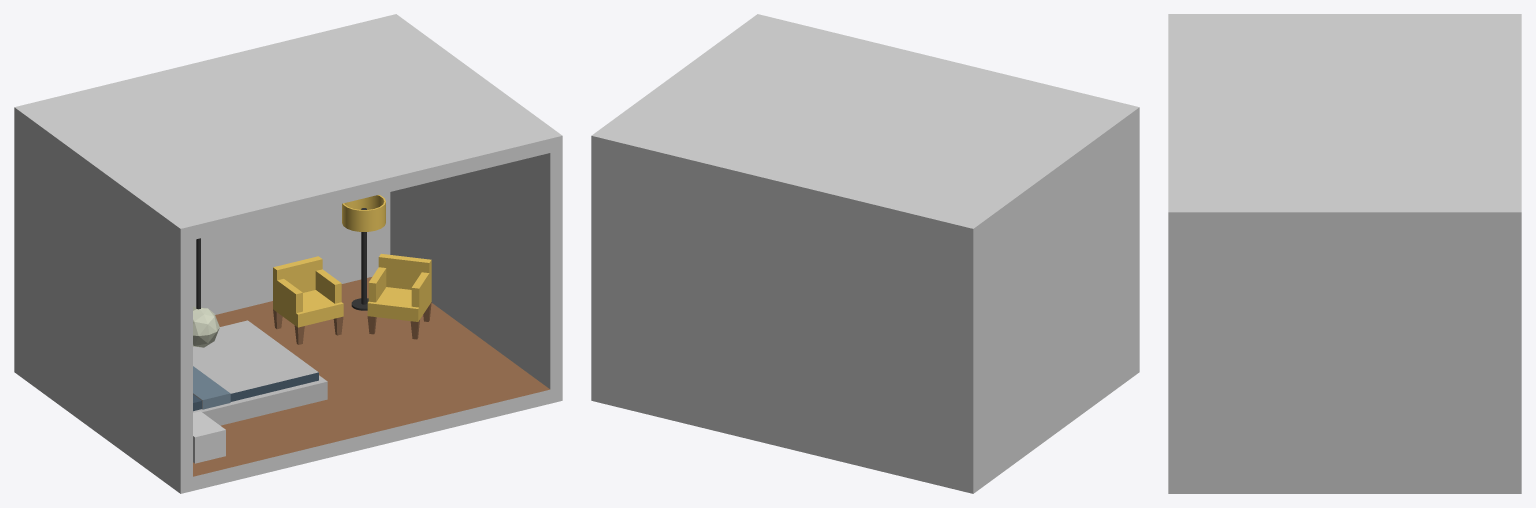
The model's file is quarto.glb.
The picture shows the model from 3 angles, left to right: view 1: azimuth 30°, elevation 25°; view 2: azimuth 150°, elevation 25°; view 3: azimuth 270°, elevation 25°; orthographic projection. The views are drawn at different scales.
Visible parts, largest first — view 1: Box001_7wfIHa, Box001_7we8qT, Box006_7wfP87, Box006_7we40J, Box006_7wc396, Box006_7weKeM, Box006_7wf45s, Box006_7wcJ3z, Box006_7wcQpp, Box006_7wf42v, Box006_7wdIPf; view 2: Box001_7wfIHa; view 3: Box001_7wfIHa.
Boxes of the visible parts, bbox=[...] form: Box001_7wfIHa: bbox=[14, 14, 562, 493]; Box001_7we8qT: bbox=[193, 277, 549, 476]; Box006_7wfP87: bbox=[273, 195, 431, 327]; Box006_7we40J: bbox=[193, 320, 318, 409]; Box006_7wc396: bbox=[202, 381, 327, 425]; Box006_7weKeM: bbox=[193, 411, 225, 463]; Box006_7wf45s: bbox=[196, 208, 368, 310]; Box006_7wcJ3z: bbox=[193, 366, 230, 409]; Box006_7wcQpp: bbox=[193, 372, 318, 411]; Box006_7wf42v: bbox=[193, 306, 219, 347]; Box006_7wdIPf: bbox=[273, 302, 431, 344]; Box001_7wfIHa: bbox=[591, 14, 1139, 493]; Box001_7wfIHa: bbox=[1168, 14, 1521, 493].
Size of the model in its own units: 1.89 by 1.25 by 1.43.
